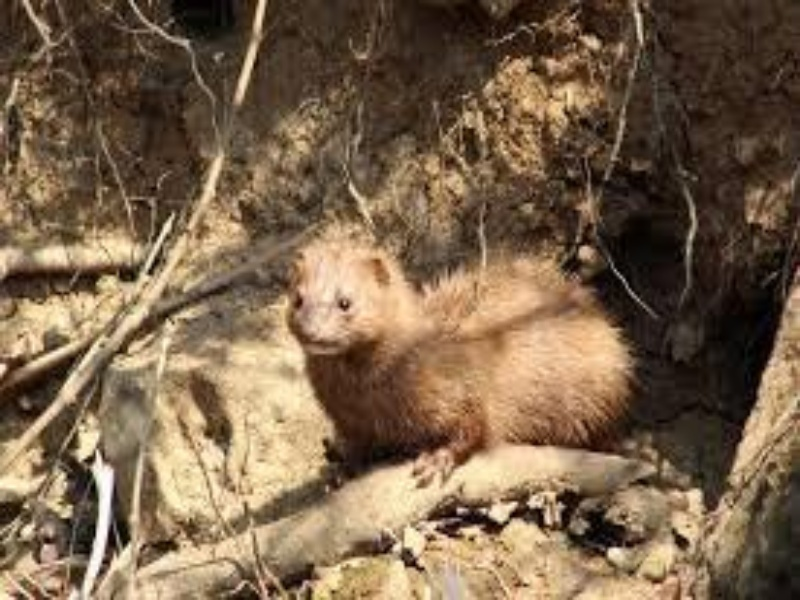minkish: (287, 236, 669, 485)
